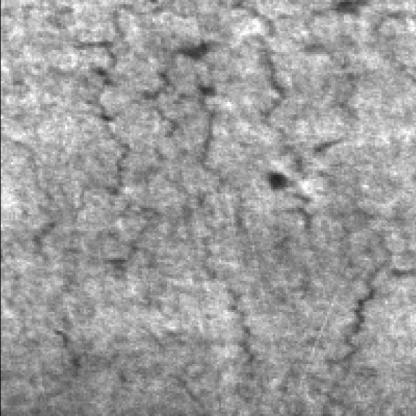crazing: (94, 0, 252, 277), (235, 0, 363, 272), (39, 0, 133, 370), (294, 168, 400, 414)
